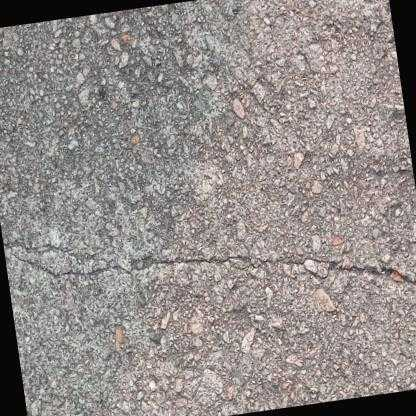crack: (15, 248, 416, 286)
